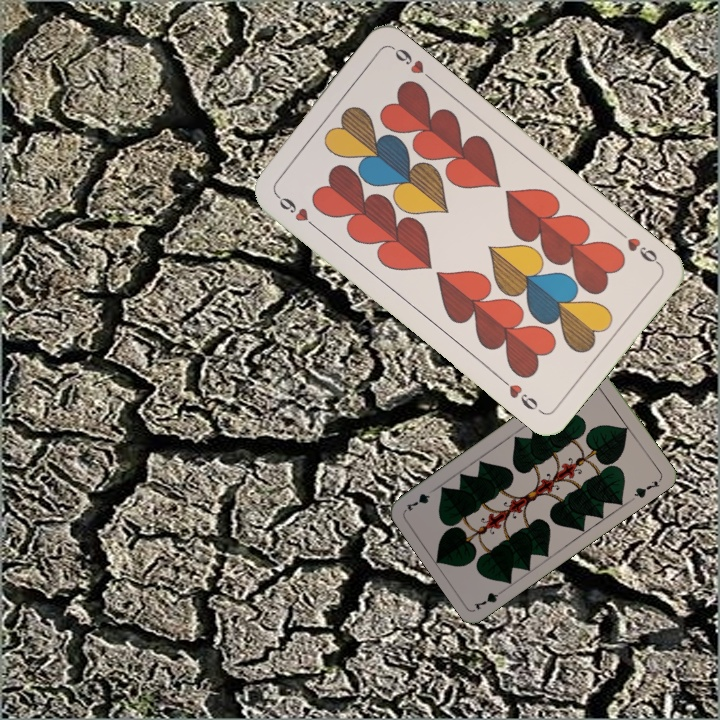G7: (470, 584, 508, 613)
H9: (271, 188, 320, 232), (614, 226, 664, 268)
